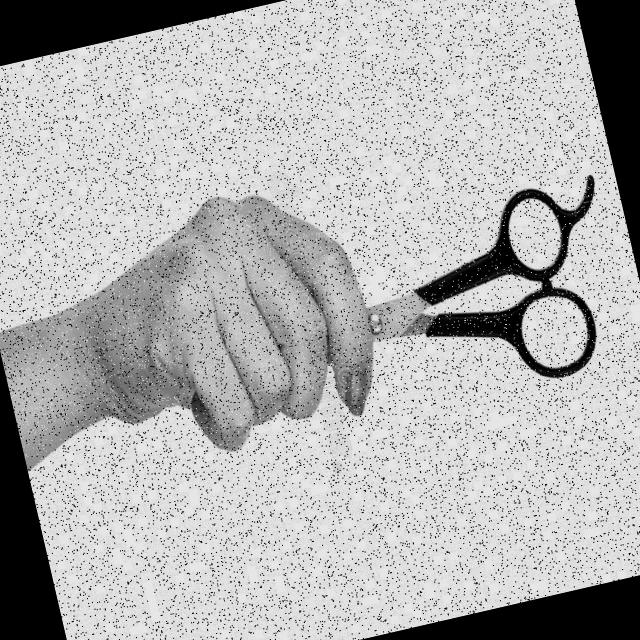scissors: (163, 158, 640, 463)
